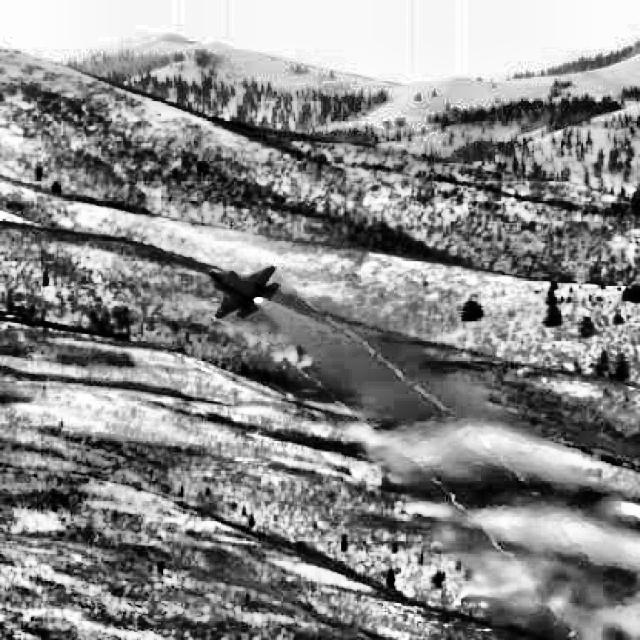F35: (205, 265, 281, 320)
